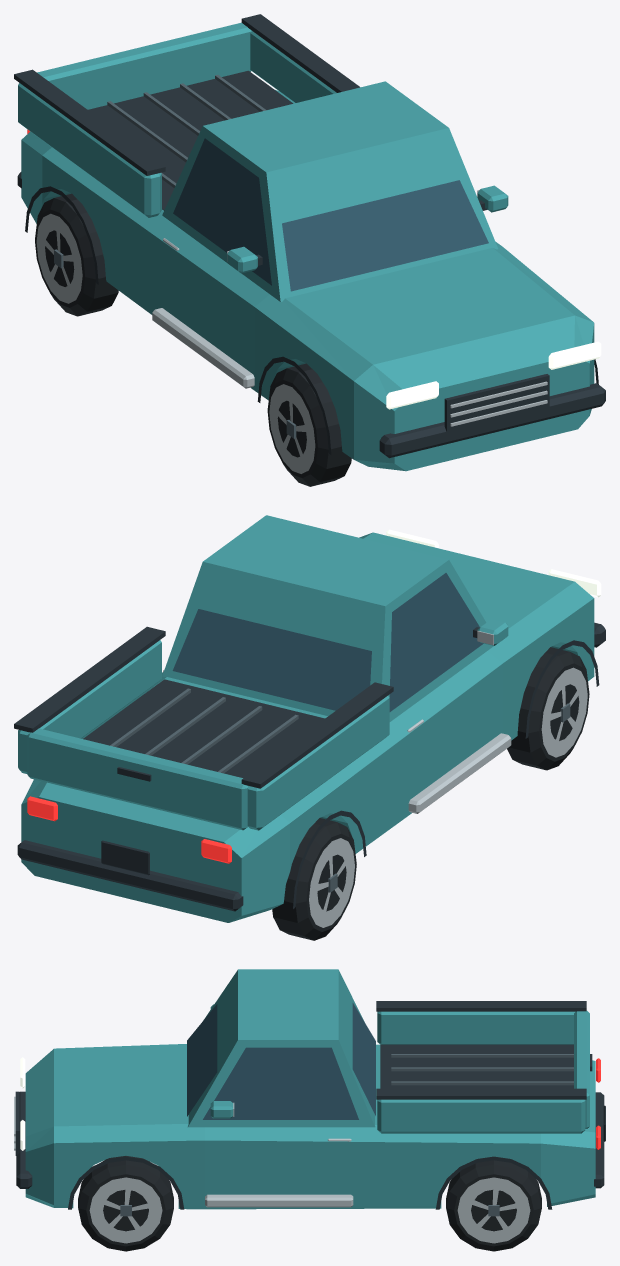
Rendered from pickup.glb.
3 renders of one model, top to bottom at view 1: azimuth 30°, elevation 25°; view 2: azimuth 150°, elevation 25°; view 3: azimuth 270°, elevation 25°, orthographic. The views are drawn at different scales.
Parts seen in each view (by area): view 1: Body_Body_paint, Body_Dark_trim, Body_Blue_tinted_glazing, Wheel_FL_Tire_rubber, Wheel_RL_Tire_rubber, Body_Brushed_alloy, Wheel_RL_Brushed_alloy, Wheel_FL_Brushed_alloy, Body_Warm_headlamps, Body_Hub_dark; view 2: Body_Body_paint, Body_Dark_trim, Body_Blue_tinted_glazing, Wheel_RL_Tire_rubber, Wheel_FL_Tire_rubber, Body_Brushed_alloy, Wheel_FL_Brushed_alloy, Wheel_RL_Brushed_alloy, Body_Hub_dark, Body_Red_lens, Body_Warm_headlamps; view 3: Body_Body_paint, Body_Dark_trim, Body_Blue_tinted_glazing, Wheel_FR_Tire_rubber, Wheel_RR_Tire_rubber, Wheel_RR_Brushed_alloy, Wheel_FR_Brushed_alloy, Body_Hub_dark, Body_Brushed_alloy.
Boxes of the visible parts, box(x1,y1,x2,y2) form: Body_Body_paint: box(18, 22, 594, 471); Body_Dark_trim: box(14, 14, 605, 458); Body_Blue_tinted_glazing: box(173, 138, 488, 291); Wheel_FL_Tire_rubber: box(267, 363, 351, 486); Wheel_RL_Tire_rubber: box(35, 193, 118, 316); Body_Brushed_alloy: box(152, 189, 547, 426); Wheel_RL_Brushed_alloy: box(36, 213, 82, 303); Wheel_FL_Brushed_alloy: box(269, 384, 315, 473); Body_Warm_headlamps: box(386, 341, 601, 409); Body_Hub_dark: box(107, 75, 266, 187); Body_Body_paint: box(18, 515, 594, 922); Body_Dark_trim: box(14, 622, 605, 911); Body_Blue_tinted_glazing: box(172, 573, 483, 711); Wheel_RL_Tire_rubber: box(272, 818, 356, 940); Wheel_FL_Tire_rubber: box(507, 647, 589, 770); Body_Brushed_alloy: box(163, 631, 511, 813); Wheel_FL_Brushed_alloy: box(541, 667, 587, 757); Wheel_RL_Brushed_alloy: box(309, 838, 354, 927); Body_Hub_dark: box(110, 688, 298, 773); Body_Red_lens: box(27, 796, 231, 863); Body_Warm_headlamps: box(386, 529, 601, 597); Body_Body_paint: box(25, 969, 595, 1209); Body_Dark_trim: box(15, 1001, 605, 1209); Body_Blue_tinted_glazing: box(187, 1003, 375, 1119); Wheel_FR_Tire_rubber: box(78, 1156, 173, 1251); Wheel_RR_Tire_rubber: box(446, 1156, 541, 1251); Wheel_RR_Brushed_alloy: box(457, 1177, 530, 1243); Wheel_FR_Brushed_alloy: box(89, 1177, 162, 1243); Body_Hub_dark: box(391, 1054, 573, 1085); Body_Brushed_alloy: box(14, 1096, 353, 1207).
Size of the model in its own units: 2.21 by 1.9 by 5.18.
